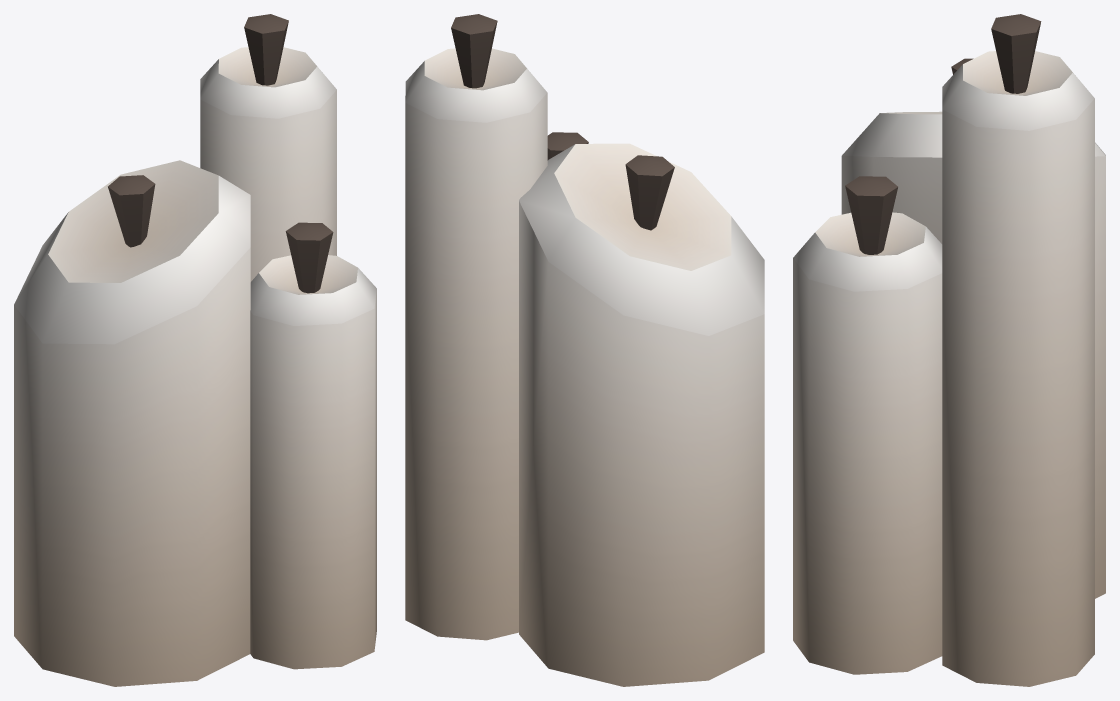
Rendered from dungeon-candles.glb.
3 views of the same model, side by side, from view 1: azimuth 30°, elevation 25°; view 2: azimuth 150°, elevation 25°; view 3: azimuth 270°, elevation 25° (orthographic). The views are drawn at different scales.
Parts seen in each view (by area): view 1: dungeon-candles; view 2: dungeon-candles; view 3: dungeon-candles.
Part boxes in pixels (x1,y1,x2,y2): dungeon-candles: (14, 14, 376, 686); dungeon-candles: (405, 14, 764, 686); dungeon-candles: (793, 14, 1105, 686).
Size of the model in its own units: 0.3759 by 0.6547 by 0.2925.
Materials: 1 (1 with a texture image).
